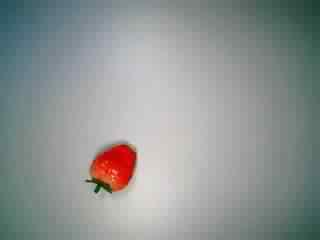strawberry: (80, 139, 141, 199)
